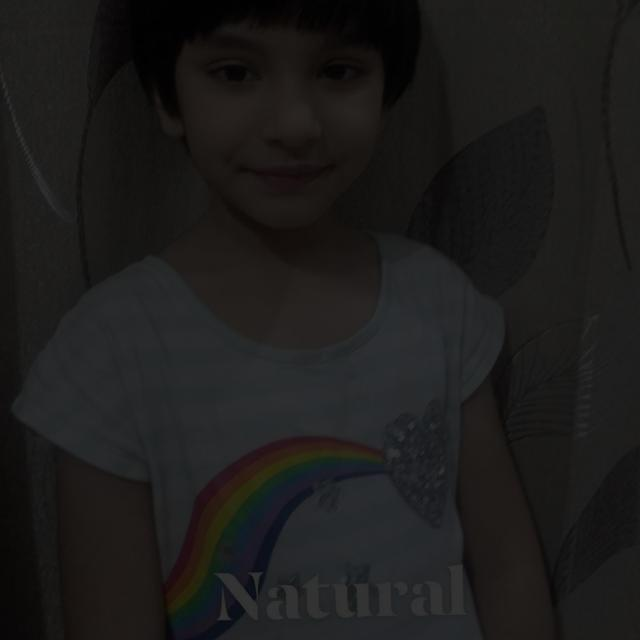Happy: (138, 0, 434, 252)
